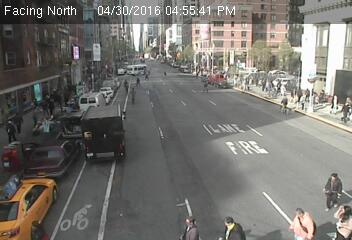neg: (92, 117, 112, 144), (268, 26, 288, 53), (27, 171, 46, 195), (175, 117, 193, 141), (180, 78, 198, 101), (62, 113, 79, 136), (68, 203, 84, 225), (125, 86, 140, 106), (310, 39, 325, 59), (174, 18, 189, 38), (220, 24, 233, 41), (281, 95, 293, 112), (219, 71, 231, 87), (91, 46, 103, 61), (121, 76, 132, 92), (68, 46, 79, 60)
pos: (316, 168, 348, 210), (286, 198, 316, 237), (328, 203, 351, 238), (213, 206, 237, 239), (175, 208, 197, 237), (326, 90, 345, 115), (337, 95, 351, 119), (2, 120, 16, 139), (316, 85, 329, 102), (132, 74, 143, 89), (162, 69, 171, 81), (143, 70, 151, 80)
